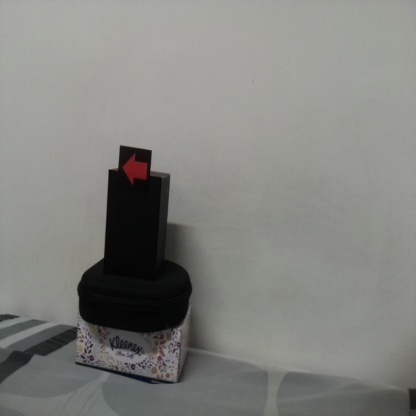id_4: (120, 148, 151, 192)
